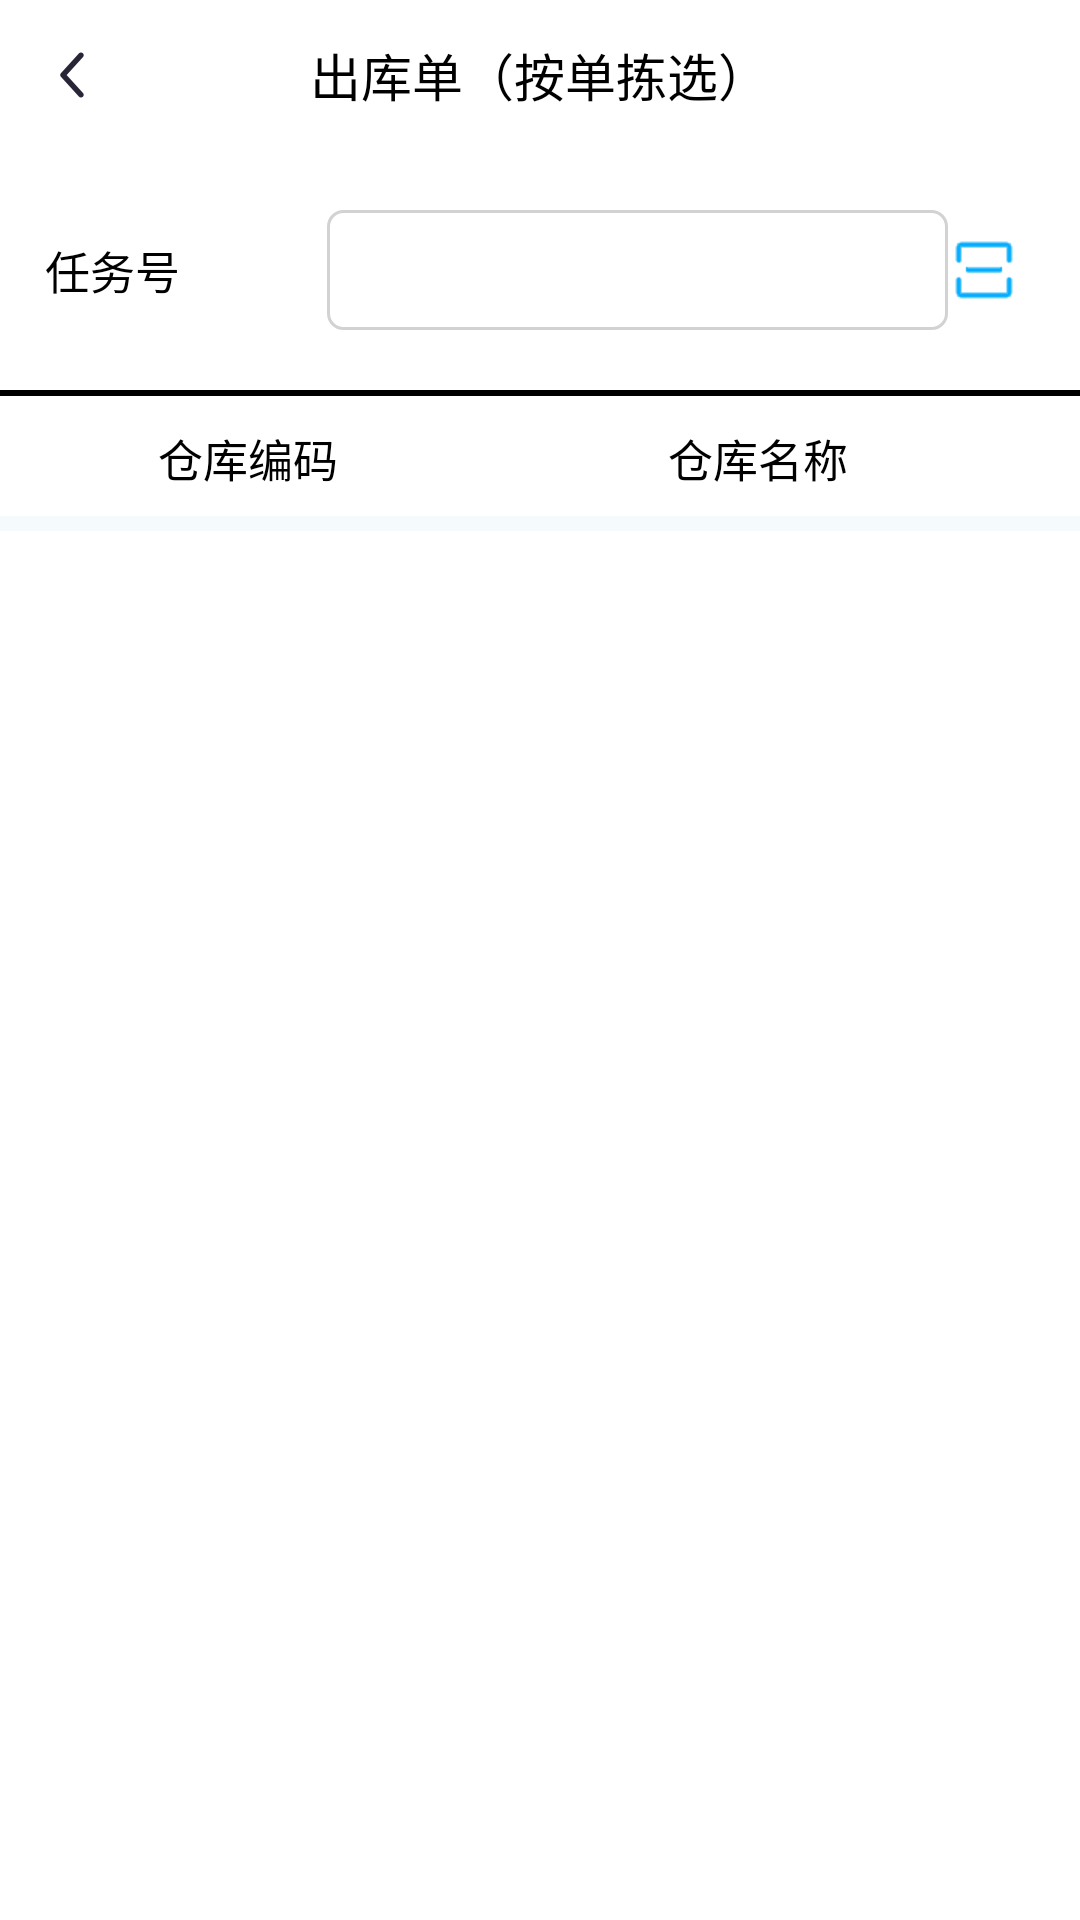

Icon bounding boxes for this 1080*1920 phone screenshot, format (x1, y1, x2, y2):
back: (60, 52, 84, 98)
scan: (955, 241, 1013, 299)
